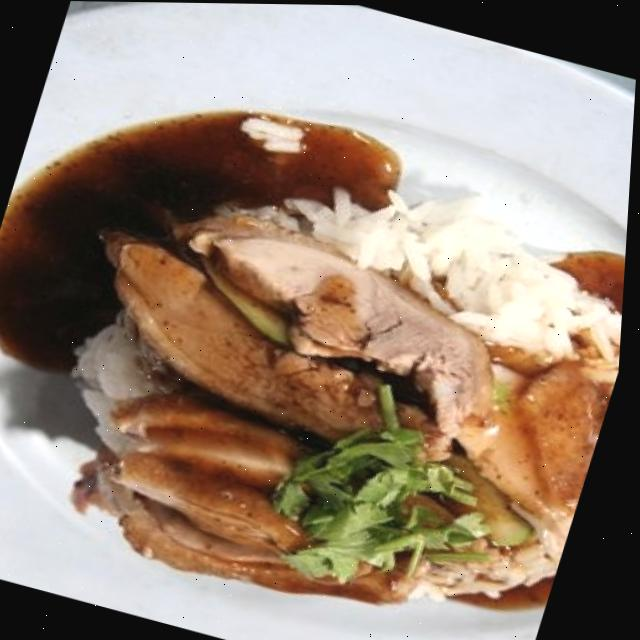米饭主食: (0, 67, 637, 640)
